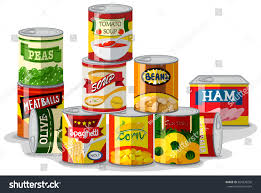can: (11, 3, 254, 164)
